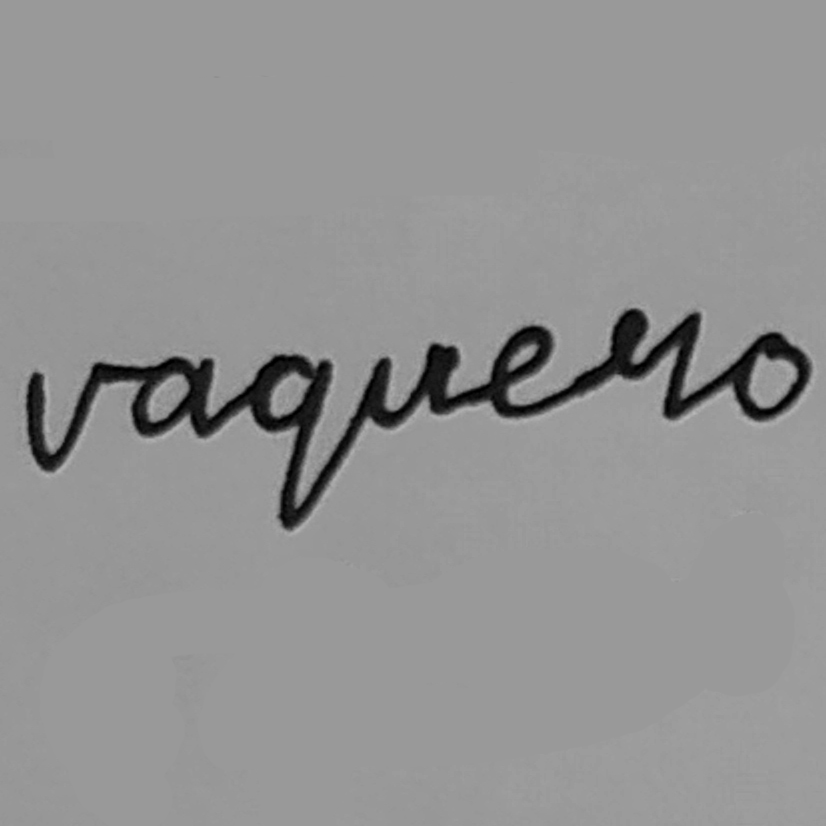a: (123, 350, 222, 446)
e: (482, 320, 565, 427)
o: (726, 327, 816, 429)
q: (242, 346, 340, 536)
r: (595, 303, 711, 429)
u: (358, 337, 464, 433)
v: (16, 355, 115, 475)
